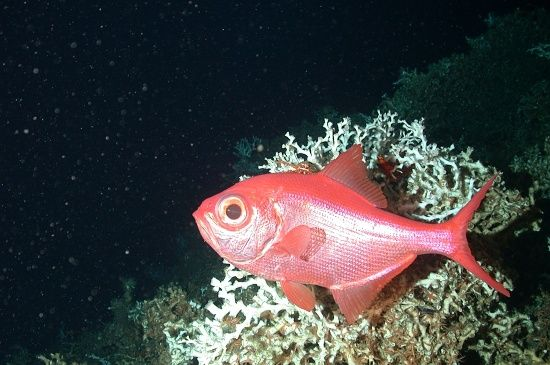fish: (193, 144, 511, 321)
